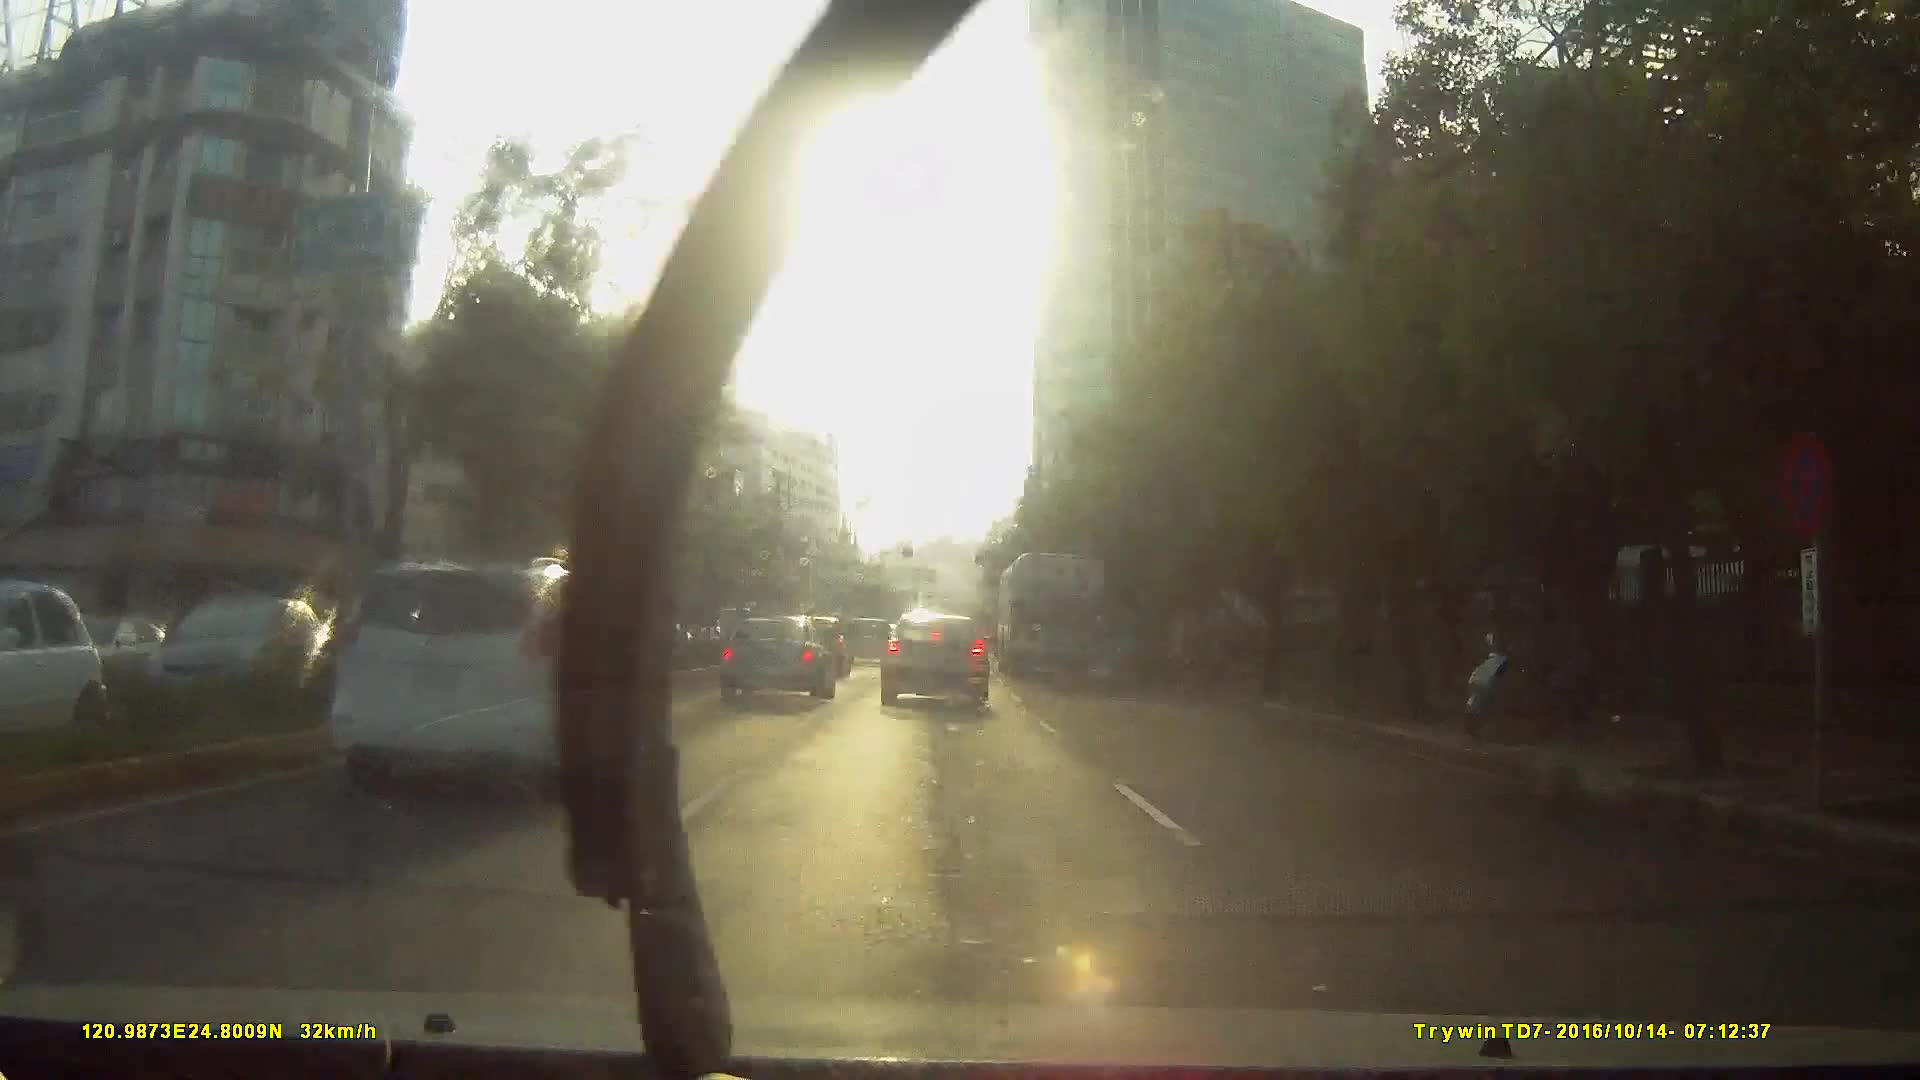vehicle: (251, 556, 684, 868), (322, 553, 654, 796), (148, 597, 340, 723), (1, 580, 127, 761), (1001, 550, 1112, 682), (877, 605, 992, 709), (717, 609, 837, 702), (844, 616, 891, 665)
